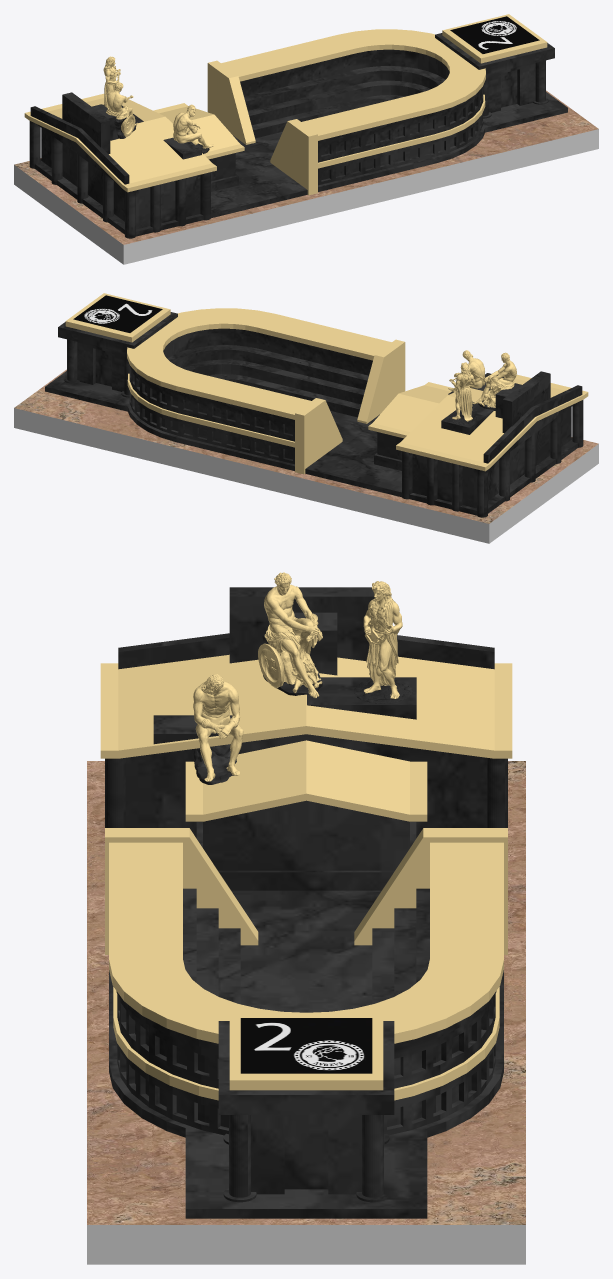
Rendered from buildingTemploApolo.glb.
3 renders of one model, top to bottom at view 1: azimuth 30°, elevation 25°; view 2: azimuth 150°, elevation 25°; view 3: azimuth 270°, elevation 25°, orthographic. The views are drawn at different scales.
Visible parts, largest first — view 1: TemploApolo; view 2: TemploApolo; view 3: TemploApolo.
Boxes of the visible parts, x1,y1,x2,y2 form: TemploApolo: [14, 14, 598, 264]; TemploApolo: [14, 293, 598, 543]; TemploApolo: [87, 572, 525, 1264].
Bounding box in the file's own units: 5 × 1.4 × 2.
5 materials, 3 textured.
